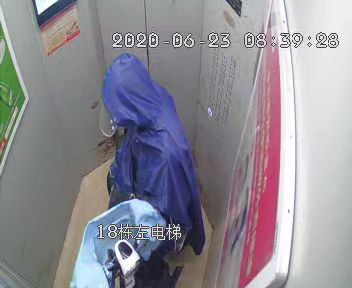Electric-bicycle: (74, 201, 176, 288)
